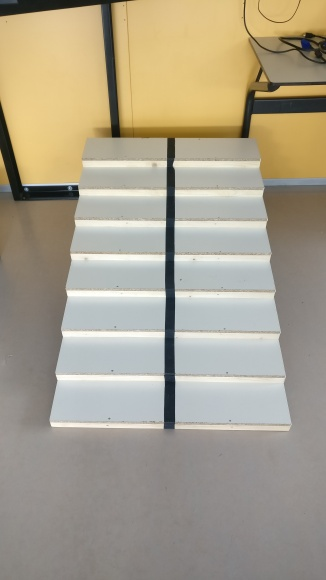stairs: (48, 137, 294, 433)
